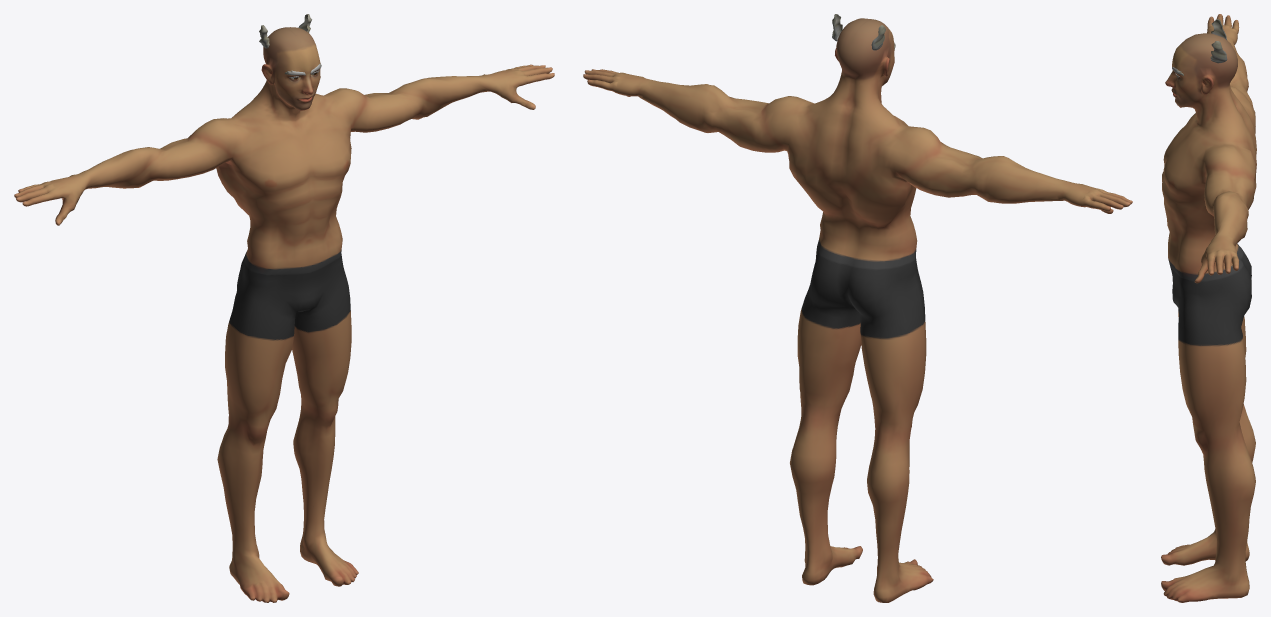
Rendered from character-male-d.glb.
3 renders of one model, left to right at view 1: azimuth 30°, elevation 25°; view 2: azimuth 150°, elevation 25°; view 3: azimuth 270°, elevation 25°, orthographic. The views are drawn at different scales.
Visible parts, largest first — view 1: crowd-body; view 2: crowd-body; view 3: crowd-body.
Boxes of the visible parts, x1,y1,x2,y2 form: crowd-body: (14,14,554,602); crowd-body: (583,14,1132,602); crowd-body: (1161,14,1256,602).
Bounding box in the file's own units: 1.68 × 1.66 × 0.2627.
4 materials, 4 textured.
